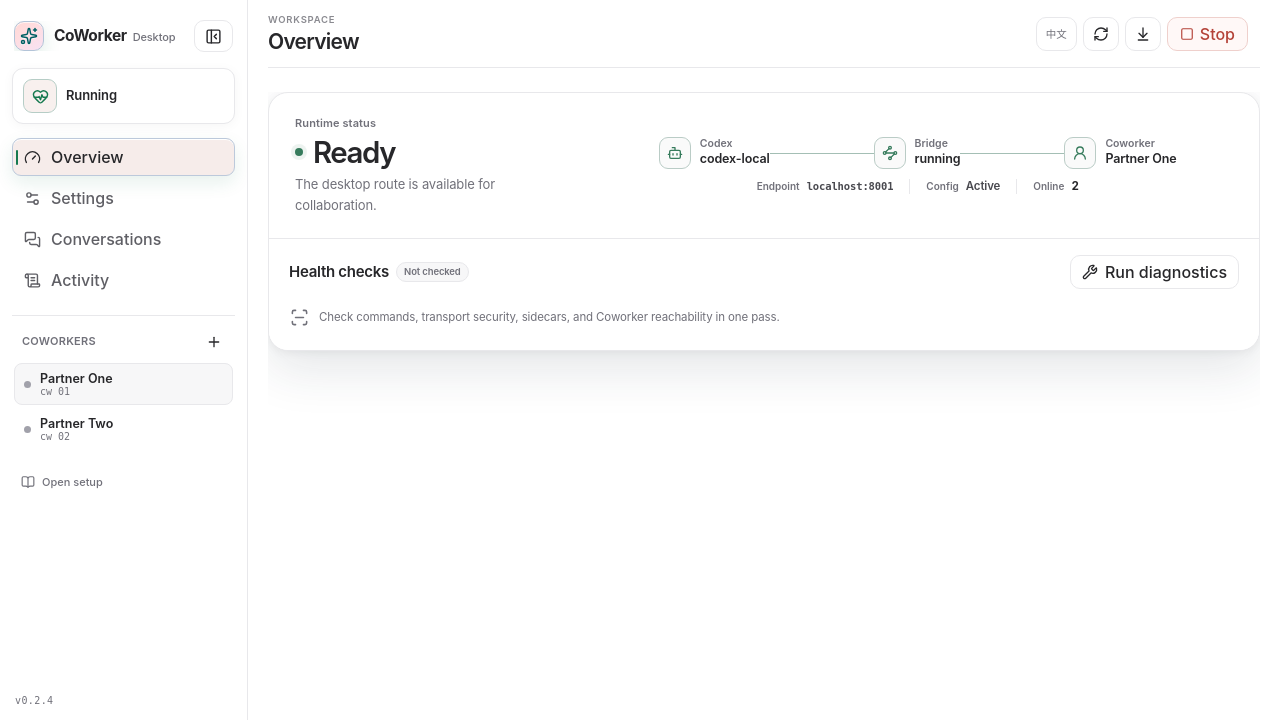
it: App backend operation wiring › runs diagnostics and renders backend results
The image size is (1280, 720).
Expected: the text "codex-local" is shown, [700,151,770,168]
Click the button "Run diagnostics": x=1154, y=272 [1070,255,1239,289]
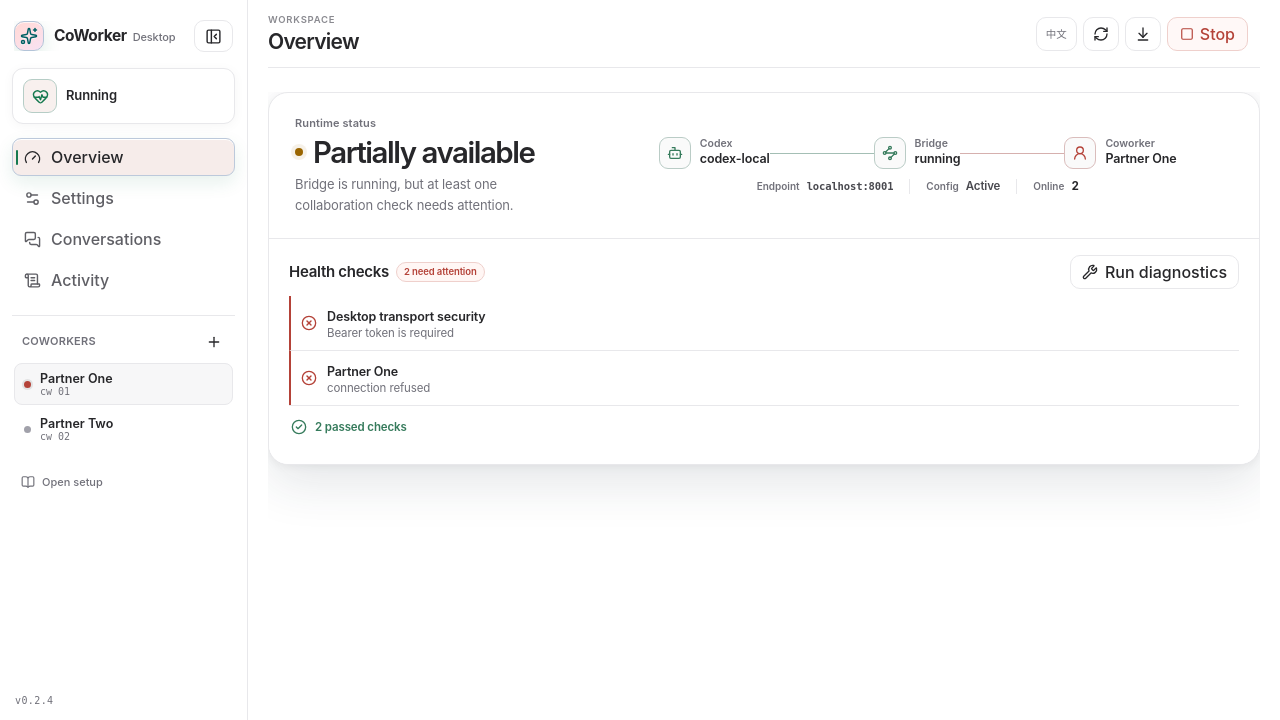
Expected: the text "Bearer token is required" is shown, [327,326,454,340]
Expected: the text "connection refused" is shown, [327,381,430,395]
Expected: the heading "Partially available" is shown, [313,137,534,167]
